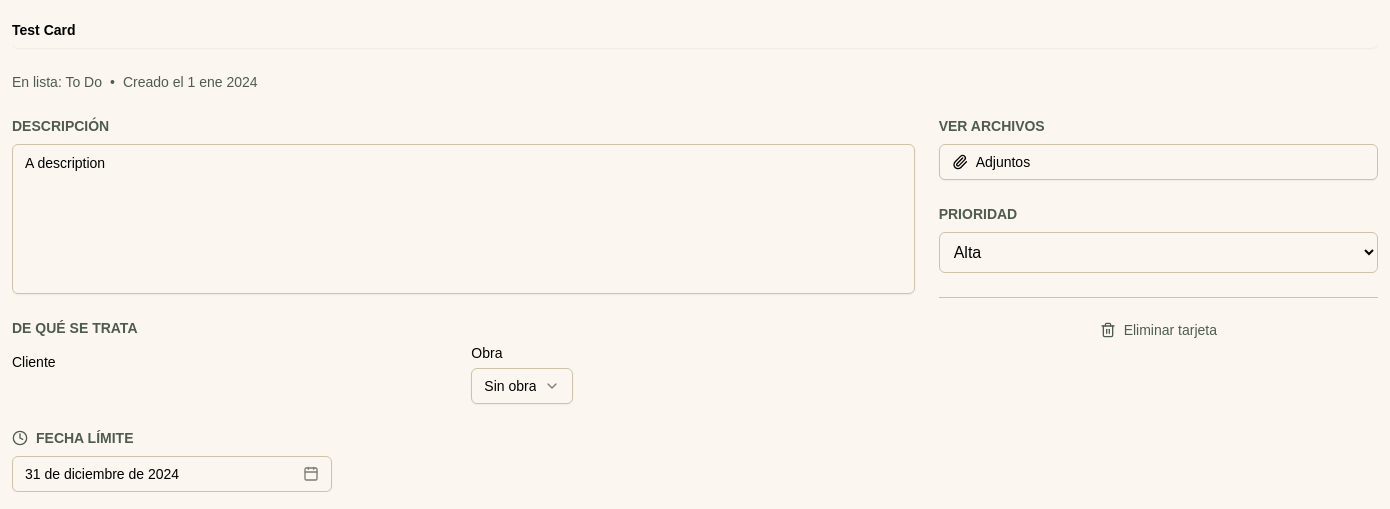
CardForm › shows delete confirmation when delete button clicked
This screenshot has width=1390, height=509.
What coordinates should you click on to do the following:
click the button "Eliminar tarjeta"
I would click on:
 (1158, 330)
Its box is [939,314,1378,346].
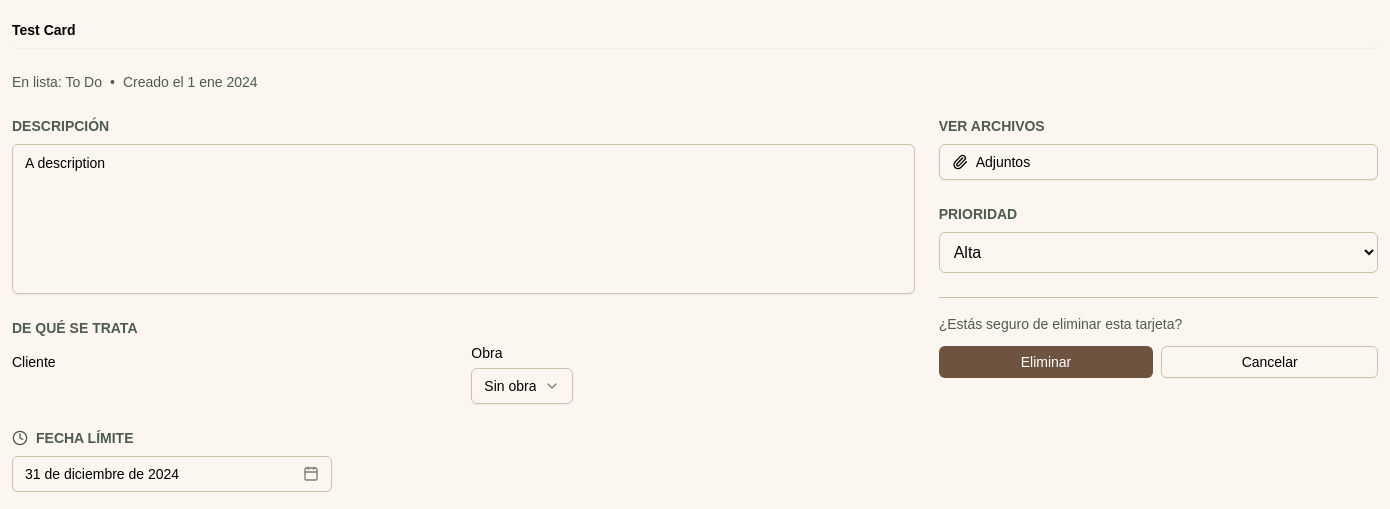
Result: the text "¿Estás seguro de eliminar esta tarjeta?" is shown at [939,316,1182,332]
